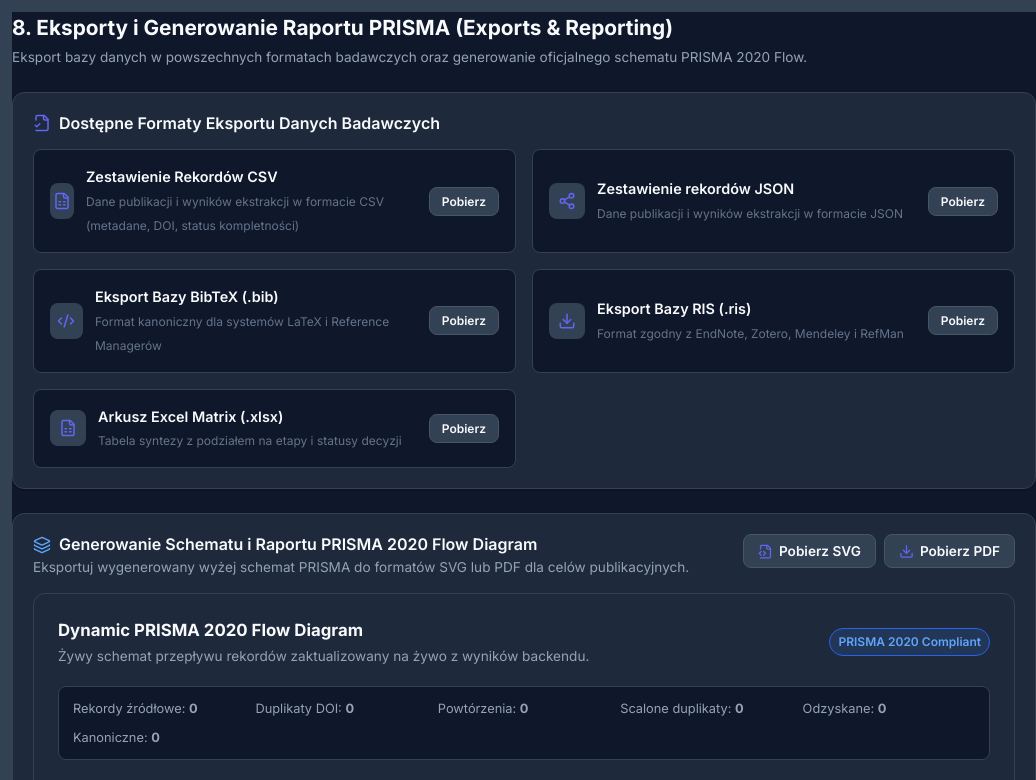
Test case: ExportsPage — Stage 9 exports & PRISMA completion › shows error alert when PRISMA export fails
The width and height of the screenshot is (1036, 780).
Expected: the heading "8. Eksporty i Generowanie Raportu PRISMA (Exports & Reporting)" is shown, top-left (12, 15), bottom-right (673, 40)
Click the button "Pobierz PDF" at [949, 551], box top-left (884, 534), bottom-right (1015, 568)
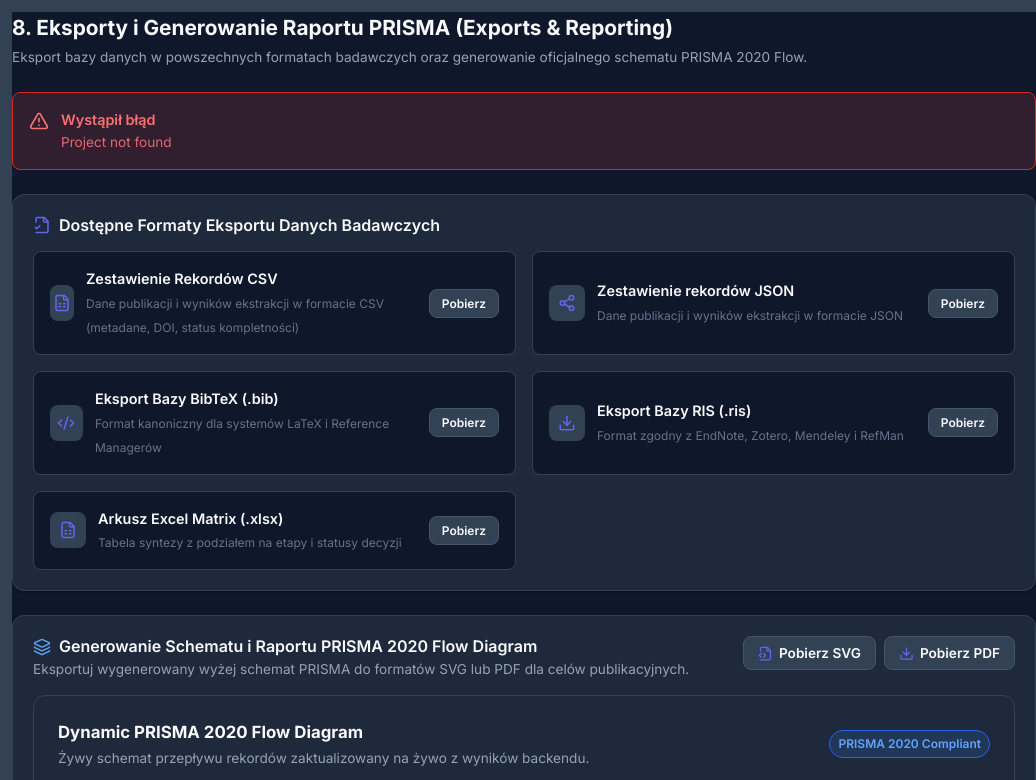
Now the message shows "Project not found", box top-left (61, 134), bottom-right (172, 150)
